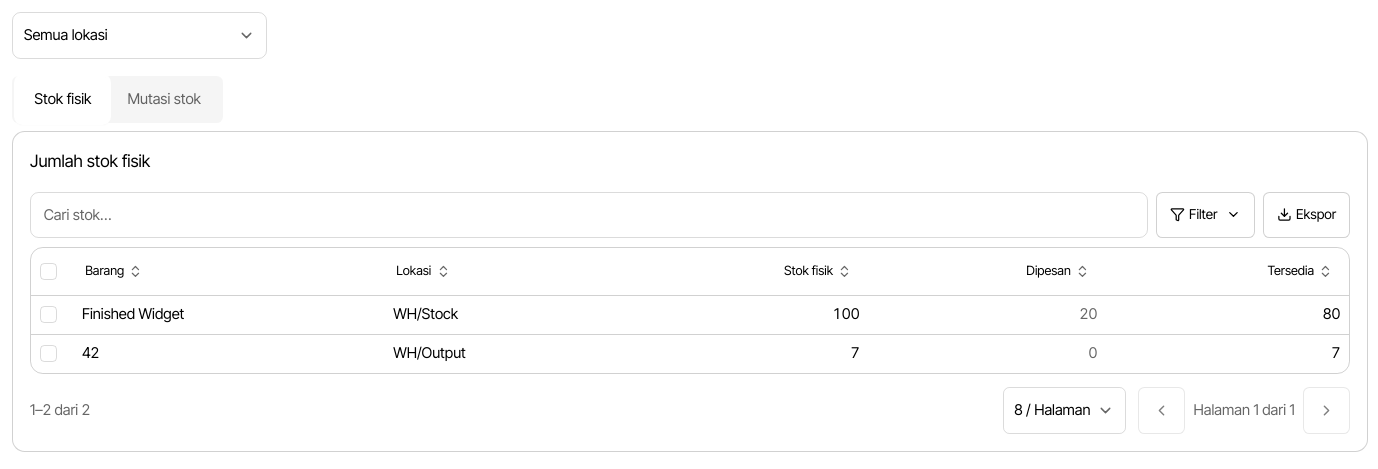
Test case: StockOverviewSection branches › filters on-hand rows by location
The image size is (1378, 469).
Expected: the text "Finished Widget" is shown, [74,295,385,334]
Click the dropdown named "Filter berdasarkan lokasi": x=140, y=35 [12,12,267,59]
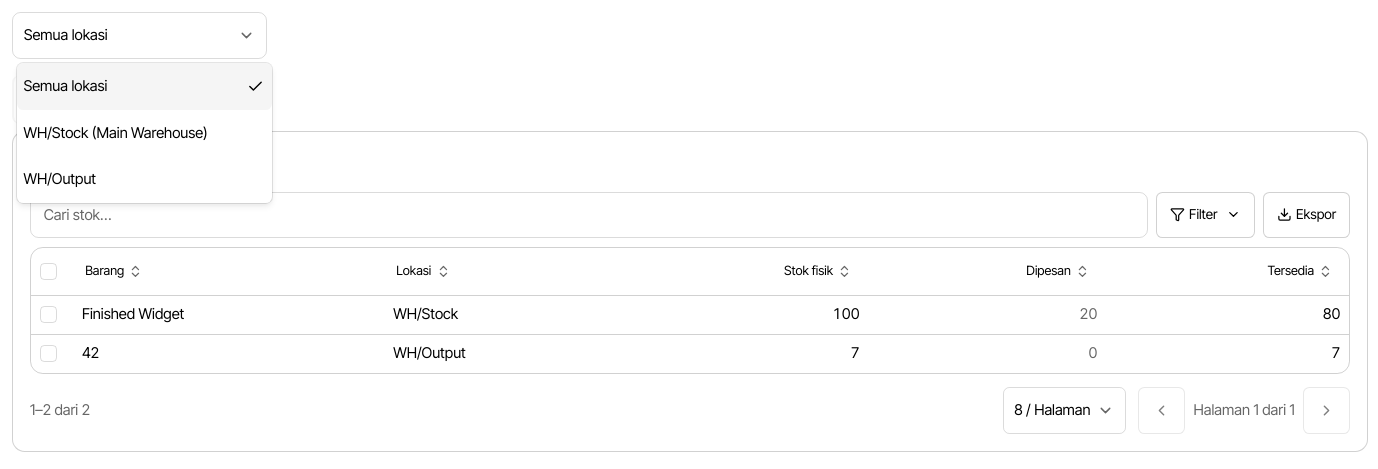
Click the option "WH/Output": x=60, y=179 [23,170,96,188]
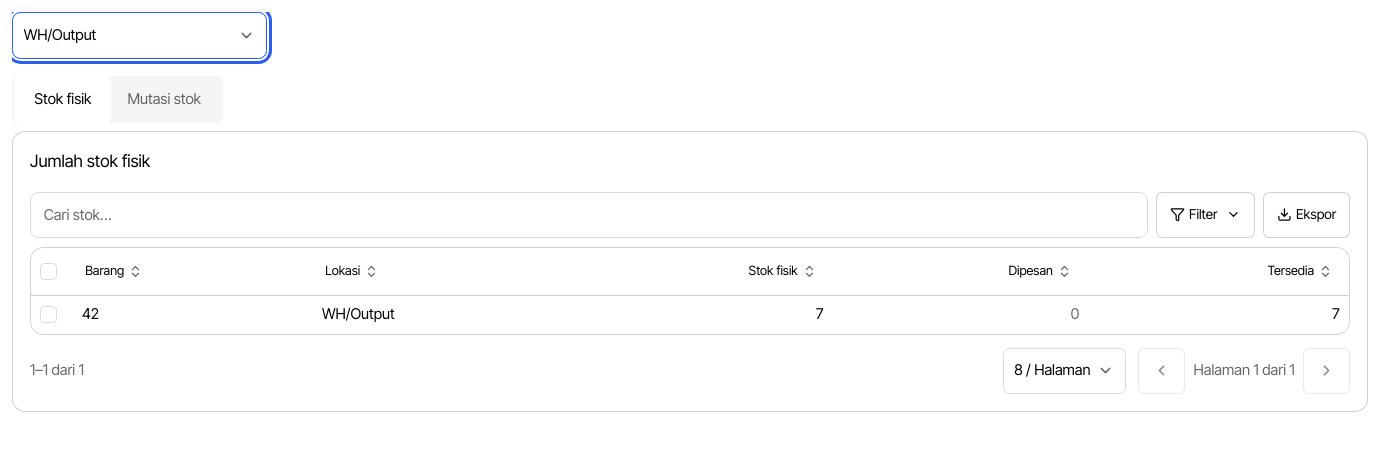
Expected: the text "WH/Stock" is gone
